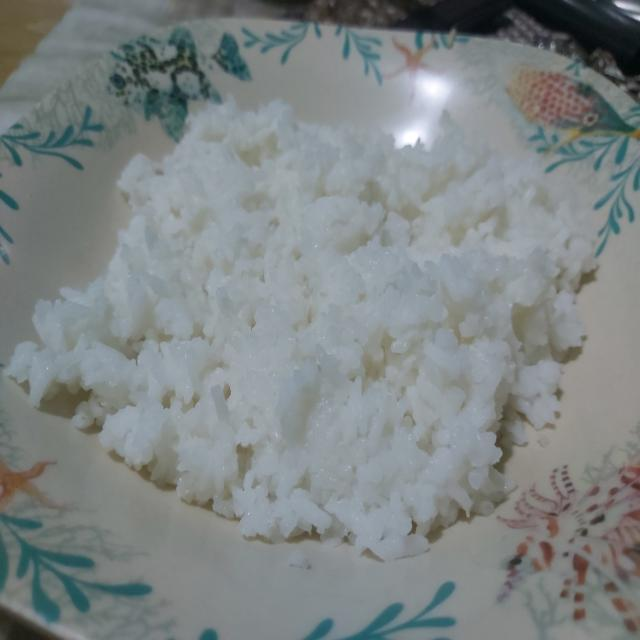Chicken -Chicken Inasal-: (92, 87, 564, 533)
